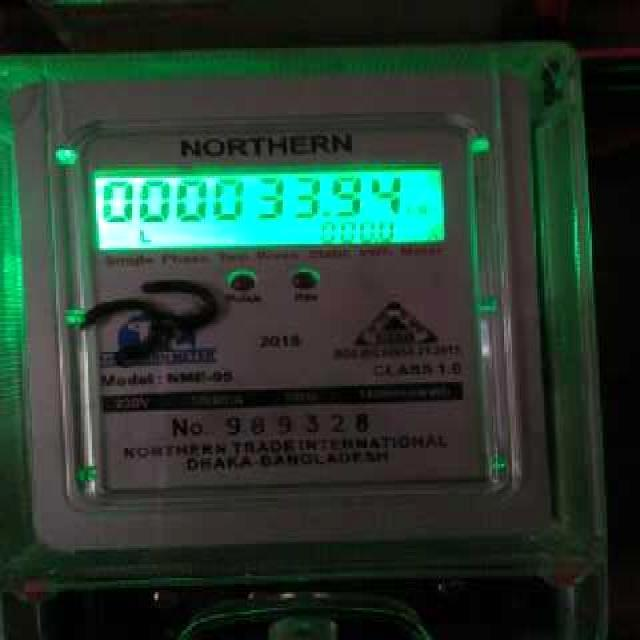LCD: (86, 165, 454, 252)
